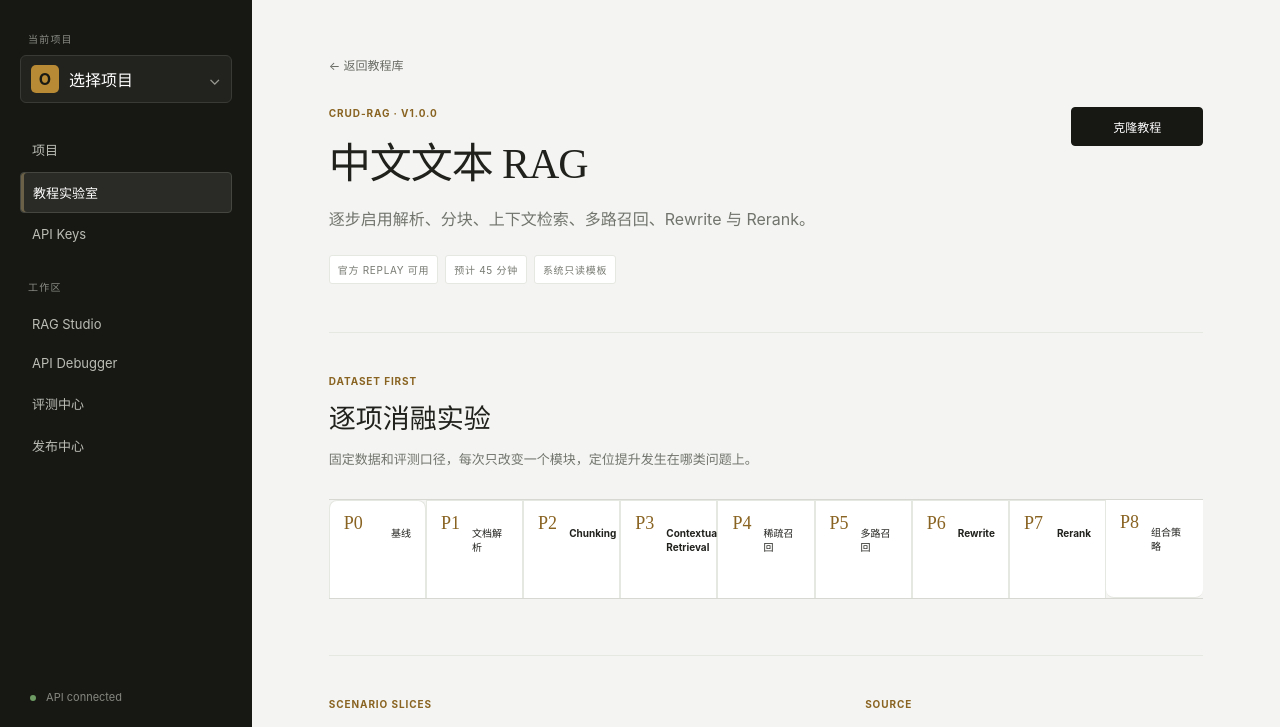
it: Tutorial catalog › starts the chosen Quick Pack clone and shows server progress
What coordinates should you click on to do the following:
click the button "克隆教程"
I would click on:
 (1137, 126)
Its box is [1071,107,1203,146].
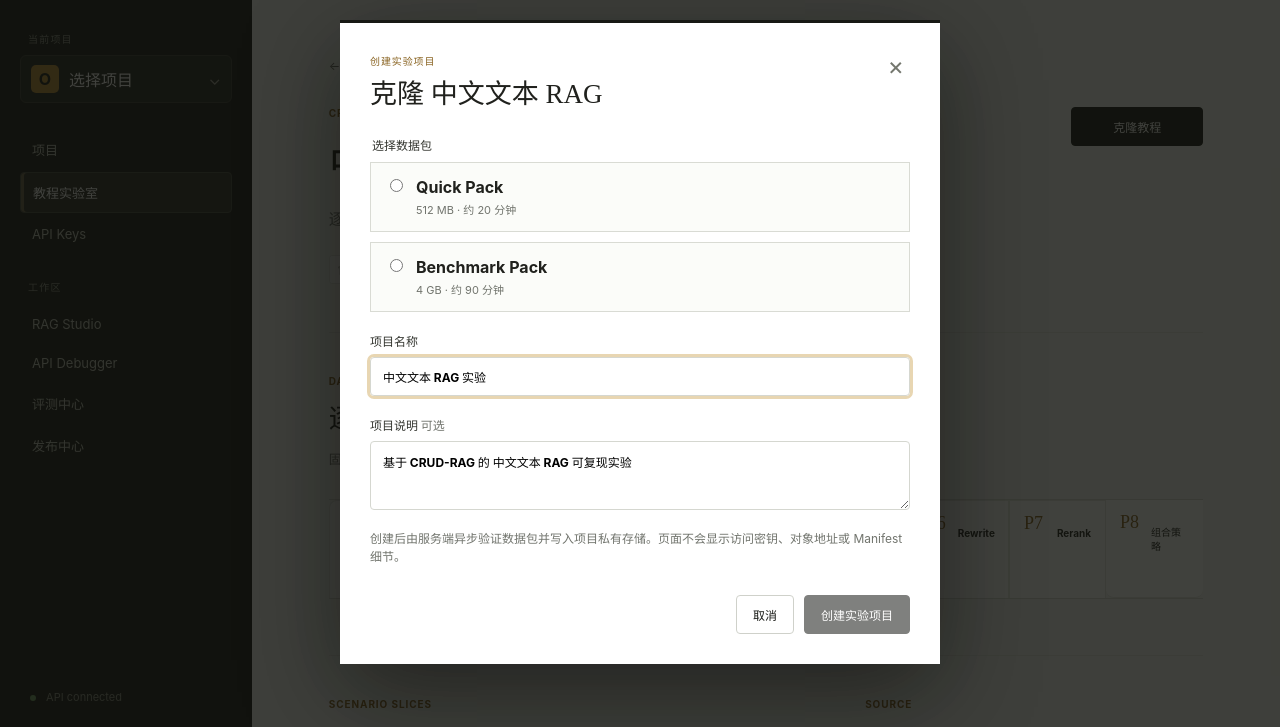
What coordinates should you click on to do the following:
click the radio button labelled "Quick Pack 512 MB · 约 20 分钟"
I would click on:
 (396, 185)
Its box is [390,179,403,192].
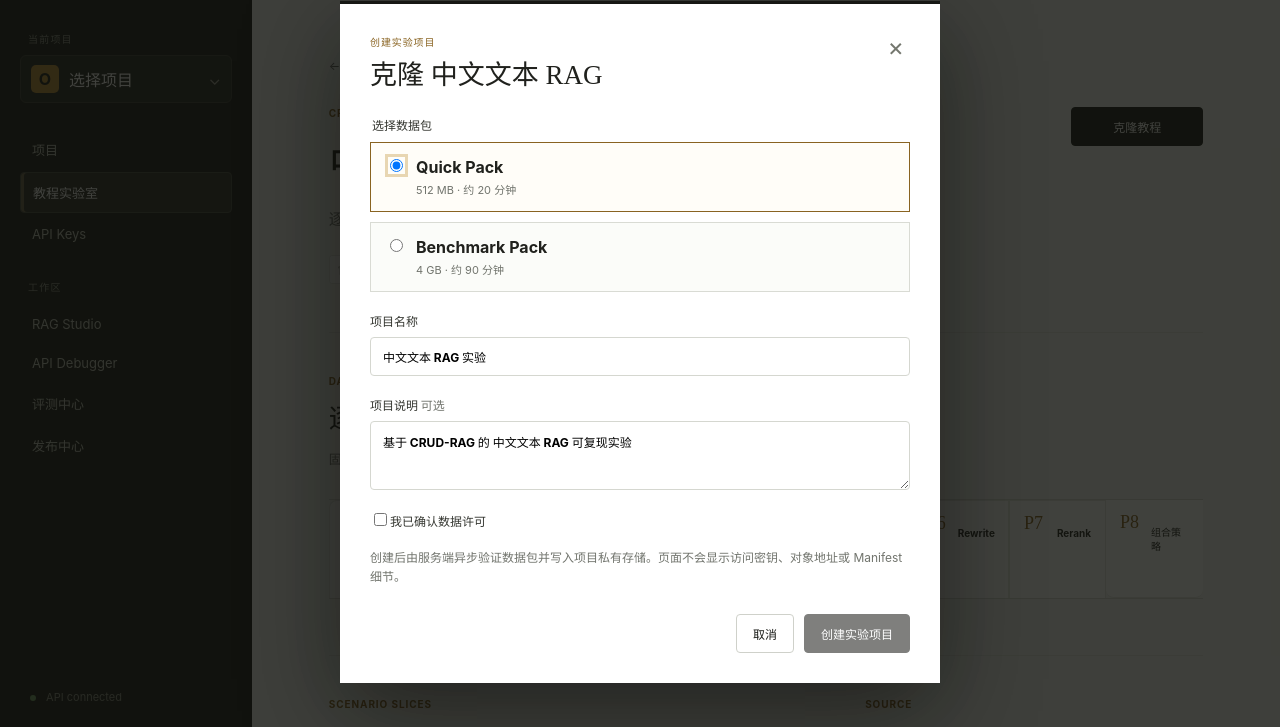
What coordinates should you click on to do the following:
click the checkbox labelled "我已确认数据许可"
I would click on:
 (380, 520)
Its box is [374,513,387,526].
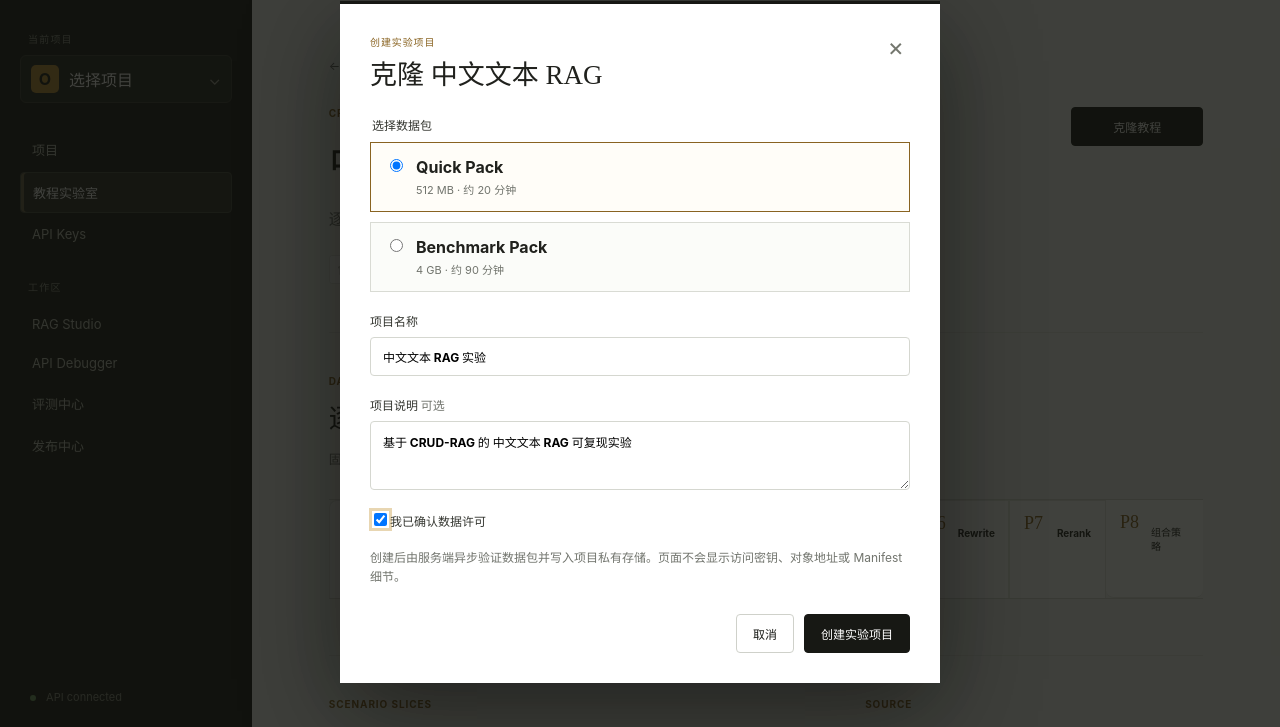
What coordinates should you click on to do the following:
click the button "创建实验项目"
I would click on:
 (857, 634)
Its box is [804,614,910,653].
(page scrolled)
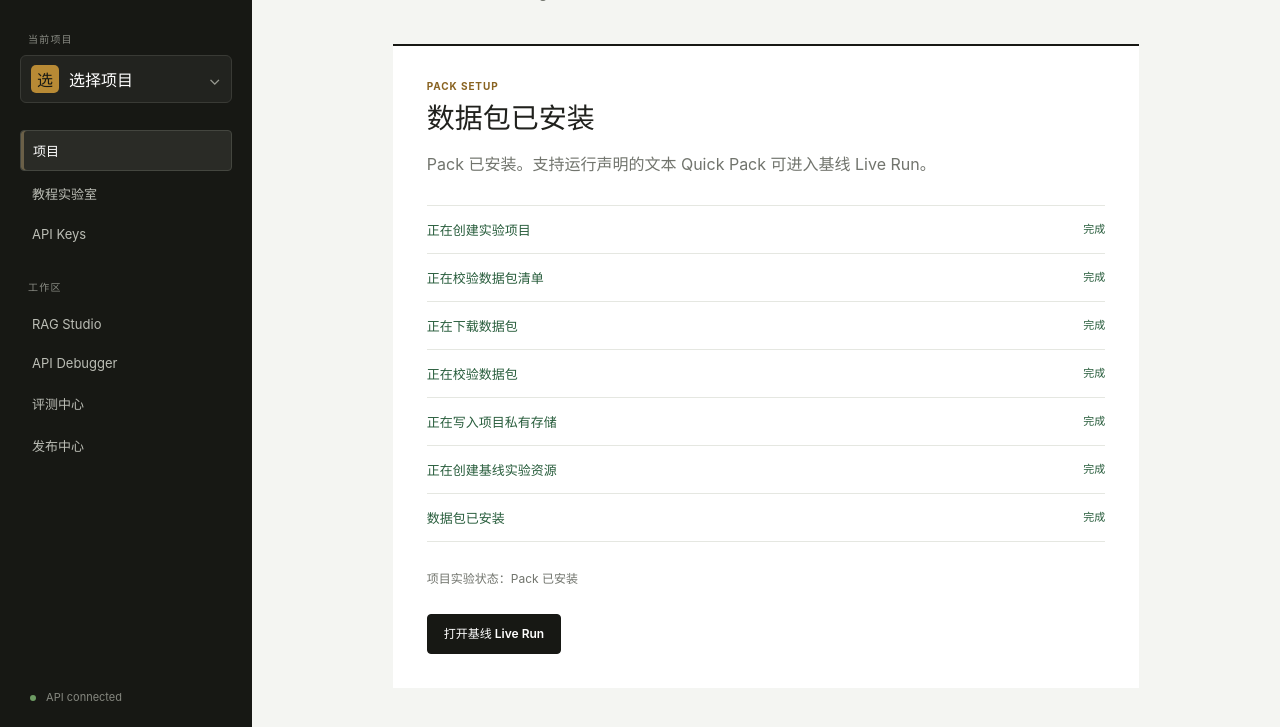
Expected: the text "Pack 已安装。支持运行声明的文本 Quick Pack 可进入基线 Live Run。" is shown, [427,154,936,174]
Expected: the link "打开基线 Live Run" is shown, [427,614,561,654]
